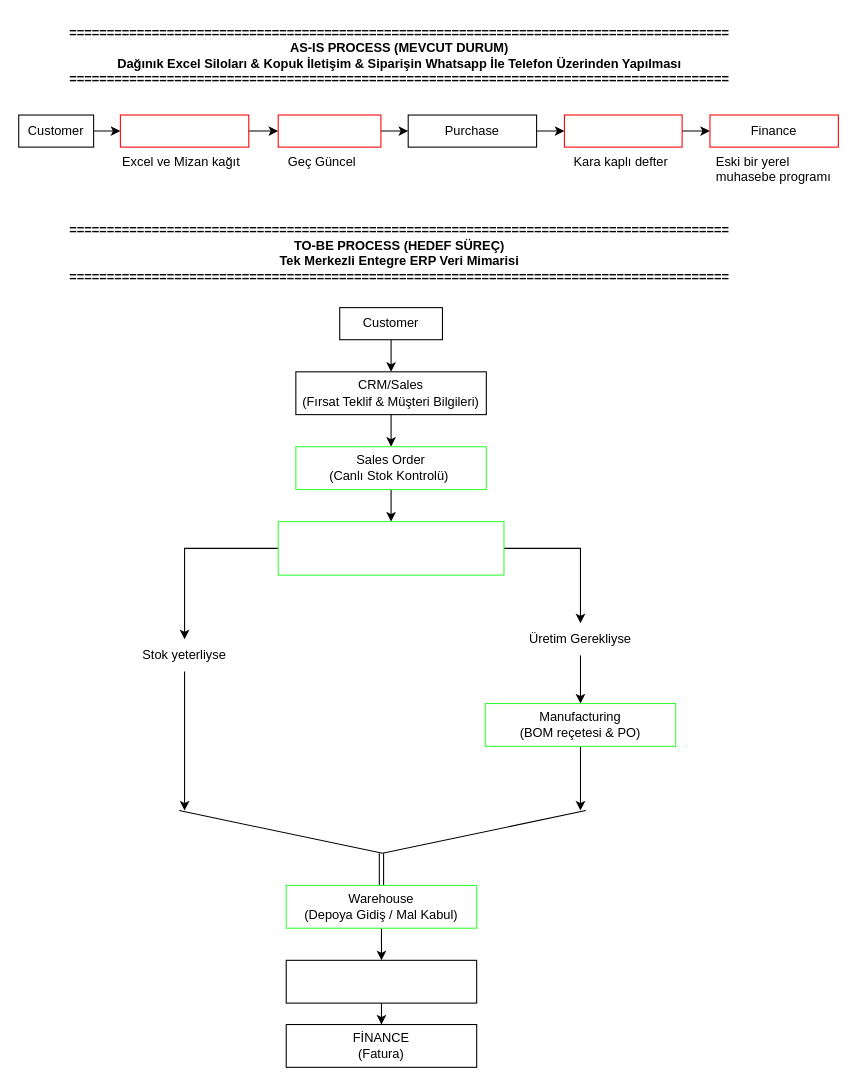
Some shapes in this 861 by 1086 pixel diagram are drawn without their labels. The shapes that lost their labels are listed below. From the top down, each one's centre as x and y in pixels, then its label:
point (184, 130): Sales
point (329, 130): Warehouse
point (622, 130): Production
point (390, 548): Inventory / WMS (Stok Tahsisi & Otomatik İhtiyaç Analizi)
point (381, 981): Delivery (Barkodlu Sevkiyat & İrsaliye)
